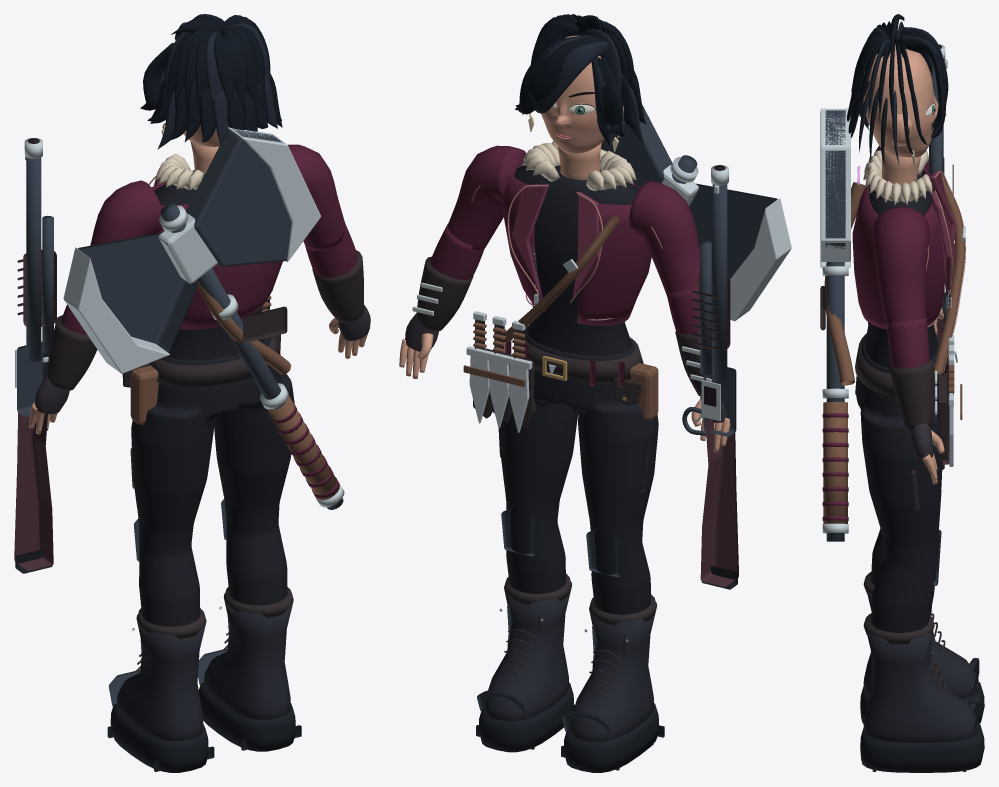
The model's file is slayer.glb.
The picture shows the model from 3 angles, left to right: view 1: azimuth 30°, elevation 25°; view 2: azimuth 150°, elevation 25°; view 3: azimuth 270°, elevation 25°; orthographic projection. The views are drawn at different scales.
Parts seen in each view (by area): view 1: Slayer_BackAxe, Slayer_Pelvis, Slayer_Hair, Slayer_Shotgun, Slayer_Foot.R, Slayer_Foot.L, Slayer_Jacket.Torso, Slayer_Forearm.L, Slayer_UpperArm.R, Slayer_UpperArm.L, Slayer_Forearm.R, Slayer_Torso (+2 smaller); view 2: Slayer_Pelvis, Slayer_Jacket.Torso, Slayer_Shotgun, Slayer_Foot.R, Slayer_Foot.L, Slayer_BackAxe, Slayer_Hair, Slayer_Torso, Slayer_UpperArm.R, Slayer_UpperArm.L, Slayer_Forearm.L, Slayer_Face (+4 smaller); view 3: Slayer_Pelvis, Slayer_Foot.L, Slayer_Jacket.Torso, Slayer_BackAxe, Slayer_Hair, Slayer_UpperArm.L, Slayer_Forearm.L, Slayer_Face, Slayer_Foot.R, Slayer_Torso, Slayer_Shotgun, Slayer_Hand.L (+2 smaller).
Boxes of the visible parts, x1,y1,x2,y2 form: Slayer_BackAxe: (63,127,344,509); Slayer_Pelvis: (122,295,294,626); Slayer_Hair: (140,14,282,149); Slayer_Shotgun: (14,138,56,573); Slayer_Foot.R: (107,608,214,772); Slayer_Foot.L: (198,587,301,751); Slayer_Jacket.Torso: (148,153,291,374); Slayer_Forearm.L: (304,223,364,322); Slayer_UpperArm.R: (90,180,162,245); Slayer_UpperArm.L: (288,144,345,251); Slayer_Forearm.R: (42,305,97,390); Slayer_Torso: (154,170,266,360); Slayer_Pelvis: (463,311,658,614); Slayer_Jacket.Torso: (502,142,651,342); Slayer_Shotgun: (682,165,738,589); Slayer_Foot.R: (561,594,664,772); Slayer_Foot.L: (476,573,574,752); Slayer_BackAxe: (552,105,791,321); Slayer_Hair: (515,14,646,145); Slayer_Torso: (514,165,638,356); Slayer_UpperArm.R: (629,180,700,296); Slayer_UpperArm.L: (447,145,526,251); Slayer_Forearm.L: (412,223,483,331); Slayer_Face: (541,35,604,154); Slayer_Pelvis: (855,328,962,632); Slayer_Foot.L: (860,613,984,772); Slayer_Jacket.Torso: (820,149,965,385); Slayer_BackAxe: (820,108,860,541); Slayer_Hair: (847,14,948,166); Slayer_UpperArm.L: (872,206,929,328); Slayer_Forearm.L: (887,317,937,428); Slayer_Face: (863,44,946,157); Slayer_Foot.R: (860,572,984,723); Slayer_Torso: (864,172,937,368); Slayer_Shotgun: (929,44,953,469); Slayer_Hand.L: (909,424,944,484).
Bounding box in the file's own units: 0.9348 × 1.9 × 0.3944.
